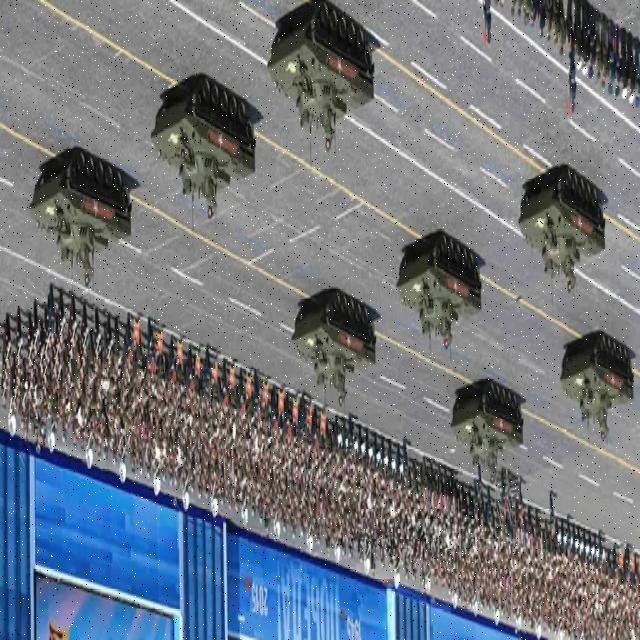APC-IFV: (269, 5, 376, 154), (152, 76, 257, 226), (28, 152, 134, 281), (519, 168, 607, 294), (396, 232, 484, 356), (292, 293, 377, 409), (562, 334, 636, 444), (450, 382, 524, 487)
